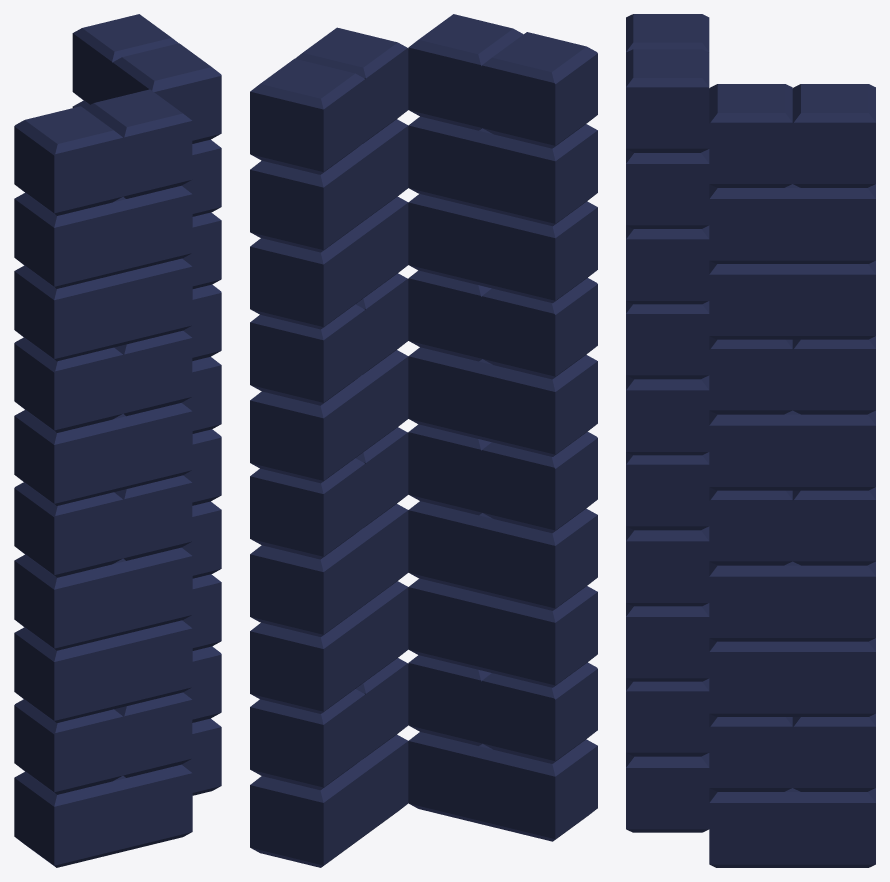
File: Edge wall.fbx
3 renders of one model, left to right at view 1: azimuth 30°, elevation 25°; view 2: azimuth 150°, elevation 25°; view 3: azimuth 270°, elevation 25°, orthographic. The views are drawn at different scales.
Visible parts, largest first — view 1: obj_0.021; view 2: obj_0.021; view 3: obj_0.021.
Part boxes in pixels (<box>): obj_0.021: <box>14,14,221,867</box>; obj_0.021: <box>250,14,597,867</box>; obj_0.021: <box>626,14,875,867</box>.
Bounding box in the file's own units: 3000 × 10000 × 3000.
